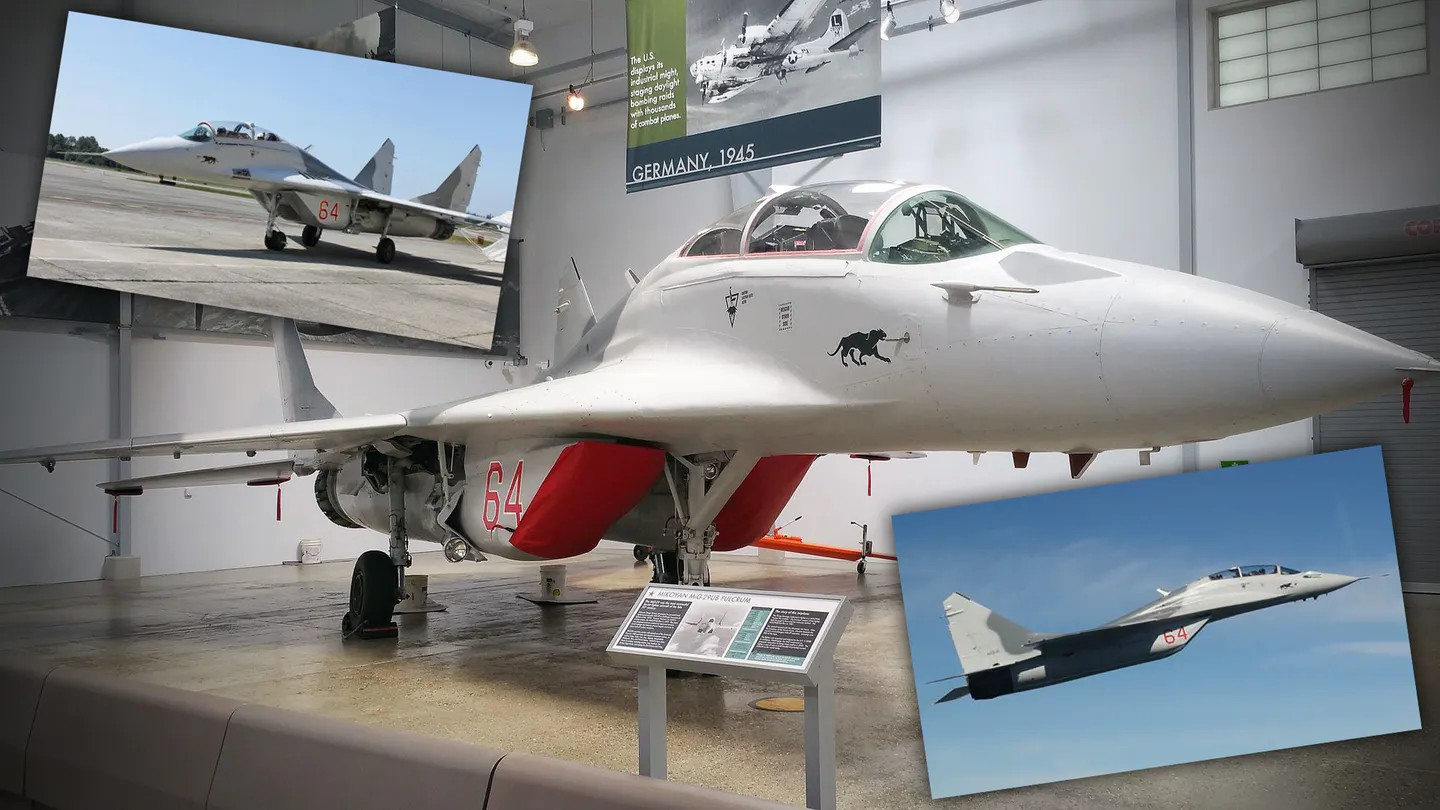Mig-29: (131, 158, 1433, 522), (69, 72, 515, 286), (925, 562, 1394, 713)
